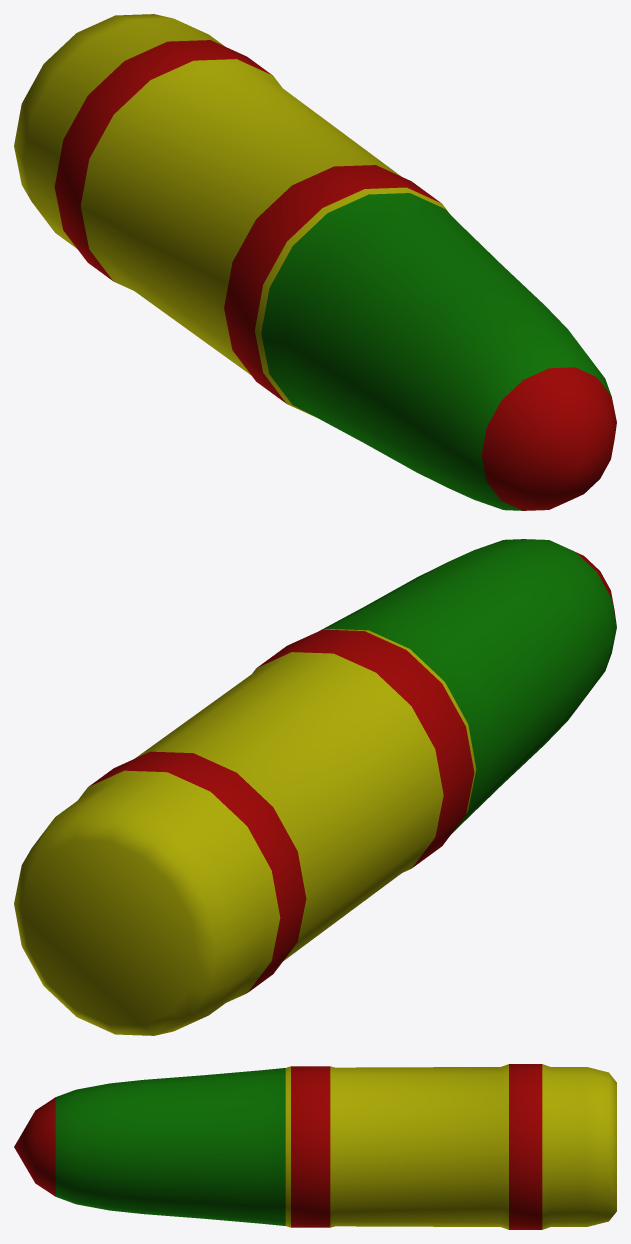
The model's file is Projectile.fbx.
3 renders of one model, top to bottom at view 1: azimuth 30°, elevation 25°; view 2: azimuth 150°, elevation 25°; view 3: azimuth 270°, elevation 25°, orthographic. The views are drawn at different scales.
Visible parts, largest first — view 1: Cylinder; view 2: Cylinder; view 3: Cylinder.
Boxes of the visible parts, box(x1,y1,x2,y2) form: Cylinder: box(14, 14, 616, 510); Cylinder: box(14, 539, 616, 1035); Cylinder: box(14, 1064, 616, 1229).
Size of the model in its own units: 82.28 by 82.28 by 299.
